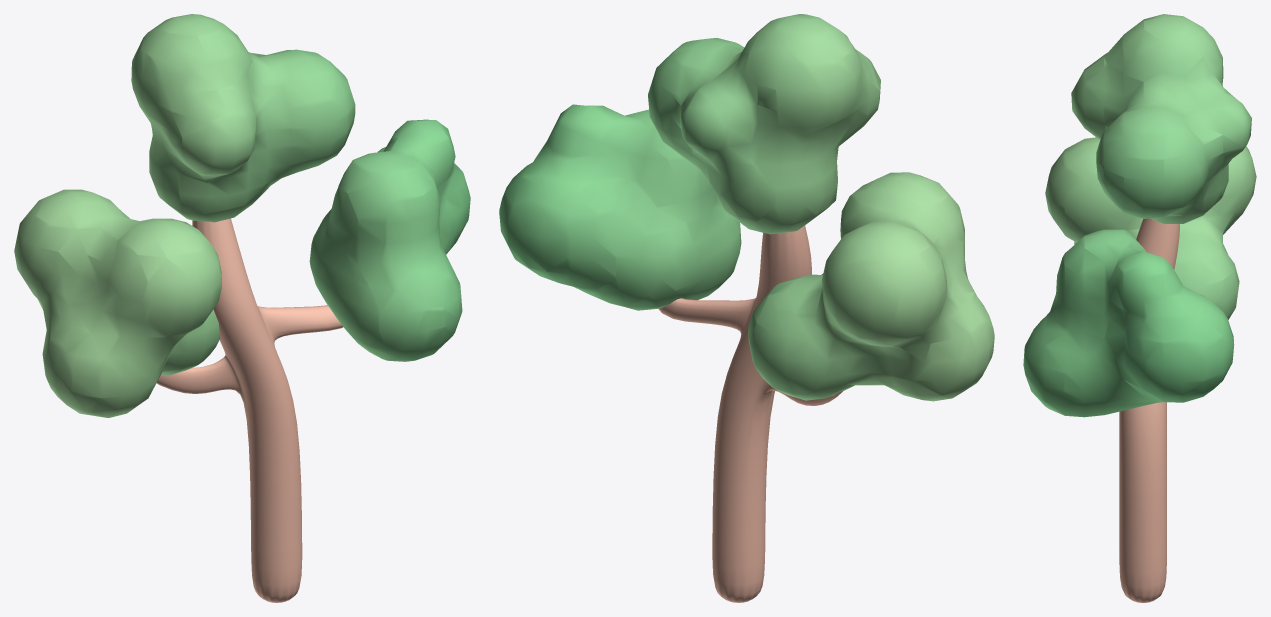
The model's file is tree2_sansUVfbx.fbx.
The picture shows the model from 3 angles, left to right: view 1: azimuth 30°, elevation 25°; view 2: azimuth 150°, elevation 25°; view 3: azimuth 270°, elevation 25°; orthographic projection. The views are drawn at different scales.
Visible parts, largest first — view 1: Cylinder; view 2: Cylinder; view 3: Cylinder.
Part boxes in pixels (x1,y1,x2,y2): Cylinder: (14, 14, 470, 602); Cylinder: (499, 14, 994, 602); Cylinder: (1023, 14, 1256, 602).
Bounding box in the file's own units: 9.52 × 12.26 × 4.72.
